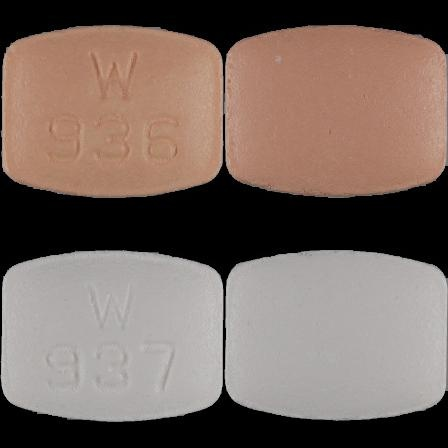64679-936: (0, 0, 224, 224)
